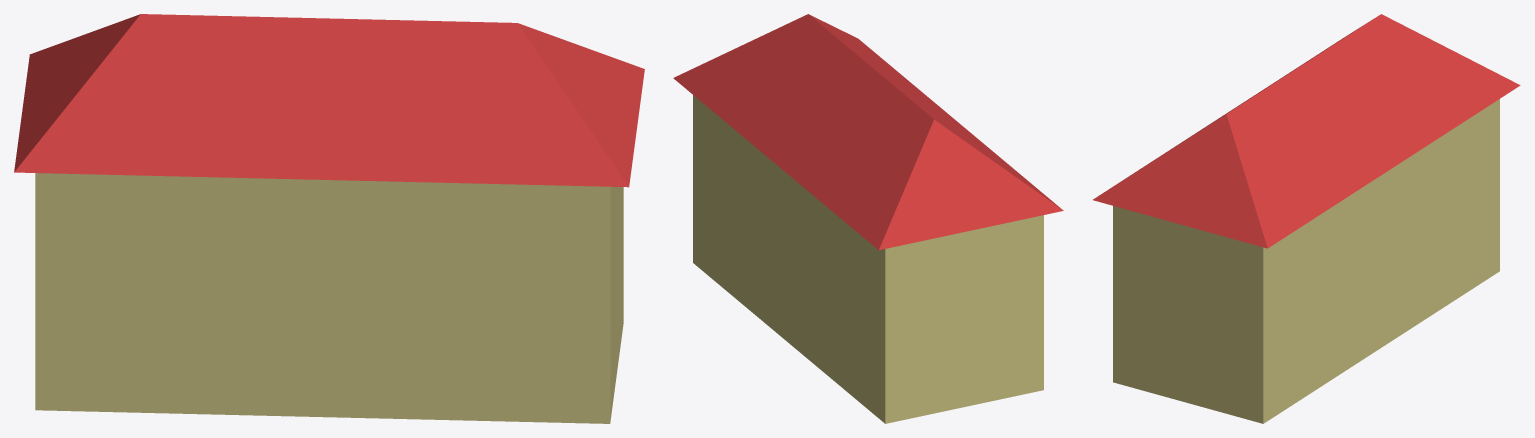
3 views of the same model, side by side, from view 1: azimuth 30°, elevation 25°; view 2: azimuth 150°, elevation 25°; view 3: azimuth 270°, elevation 25° (orthographic). The views are drawn at different scales.
Parts seen in each view (by area): view 1: group_5, group_3, group_4; view 2: group_5, group_3, group_4; view 3: group_5, group_3, group_4.
Part boxes in pixels (bbox=[...]): group_5: bbox=[35, 173, 623, 423]; group_3: bbox=[14, 14, 644, 187]; group_4: bbox=[14, 108, 628, 187]; group_5: bbox=[693, 95, 1043, 423]; group_3: bbox=[693, 14, 1063, 250]; group_4: bbox=[673, 36, 1063, 249]; group_5: bbox=[1113, 99, 1499, 423]; group_3: bbox=[1093, 14, 1516, 248]; group_4: bbox=[1261, 75, 1520, 248].
Size of the model in its own units: 24.94 by 21.32 by 14.4.
